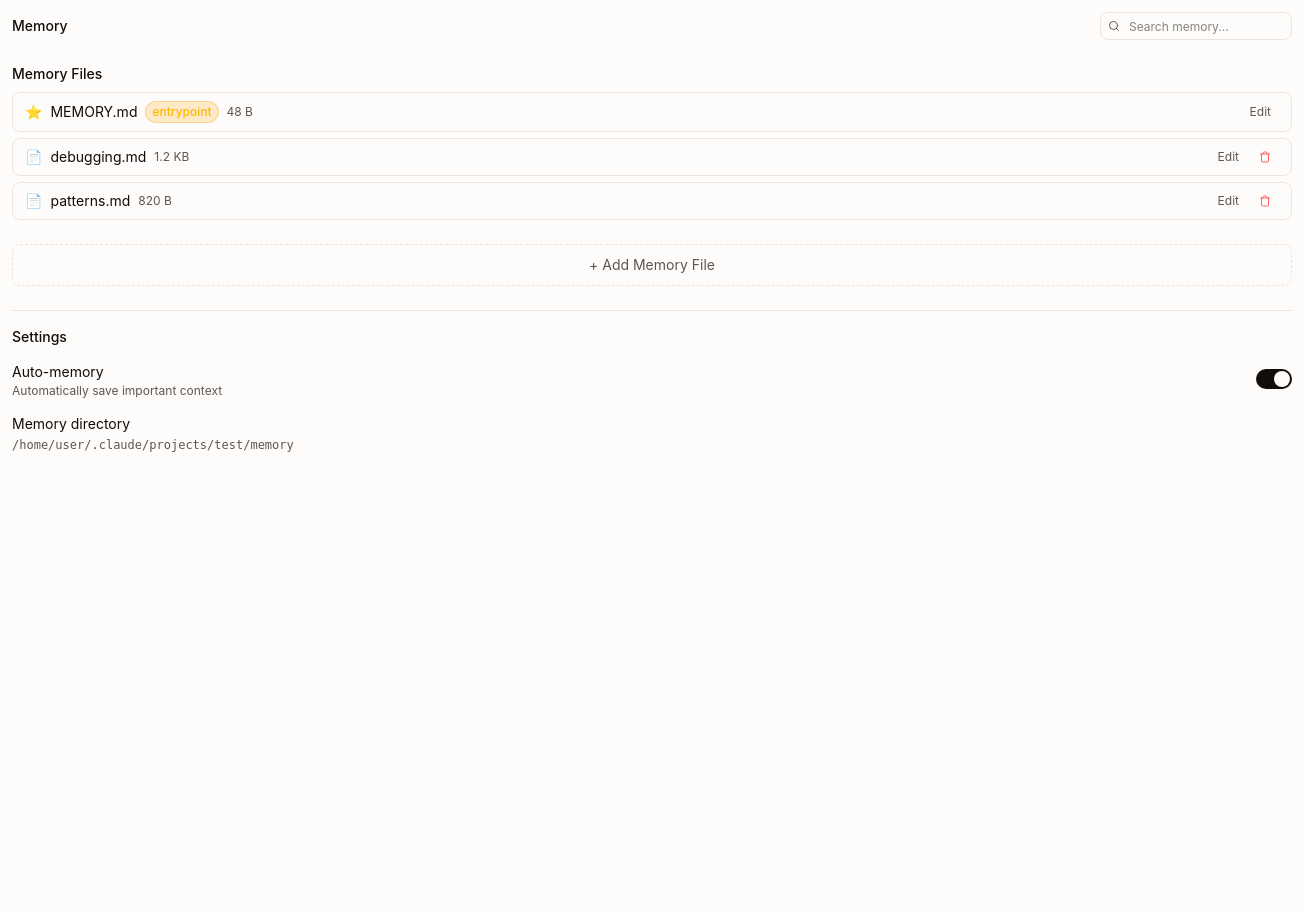
Test: MemoryPanel › edit opens editor
Check: the element with test id "memory-panel" is shown, box [12, 12, 1292, 453]
Click the button with test id "memory-edit-btn-MEMORY.md" at (1260, 112), box [1242, 102, 1279, 122]
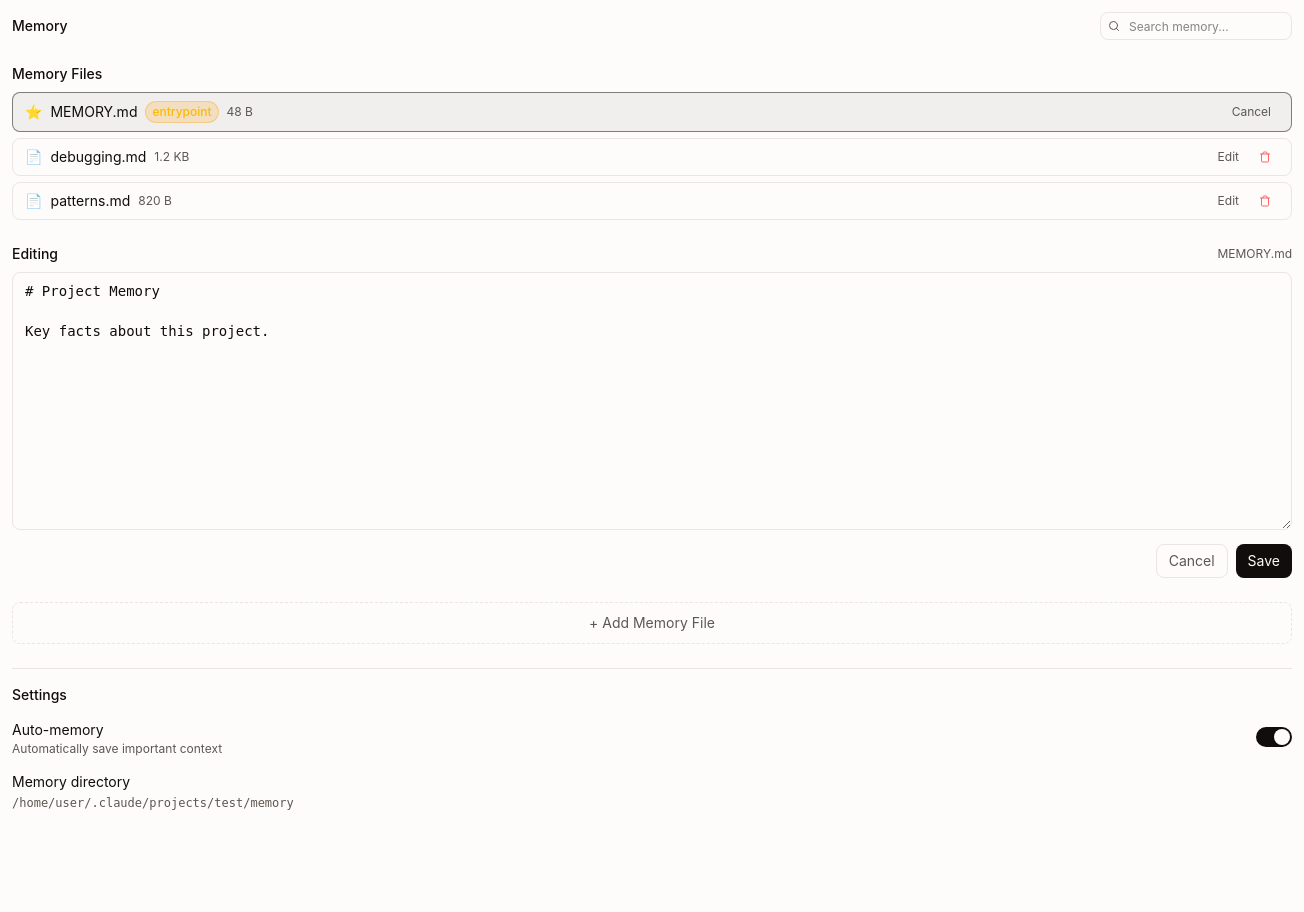
Check: the element with test id "memory-editor" is shown, box [12, 244, 1292, 578]
Check: the text box with test id "memory-editor-textarea" is shown, box [12, 272, 1292, 530]
Check: the button with test id "memory-save-btn" is shown, box [1236, 544, 1292, 578]
